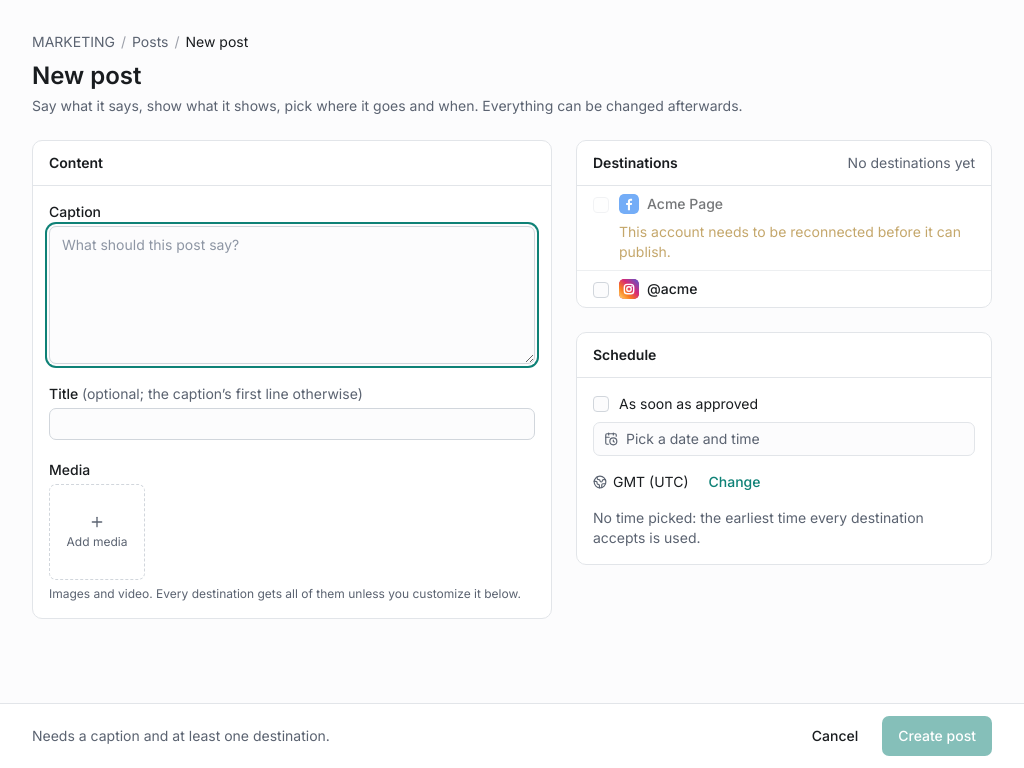
ComposePostPage › starting from a Creative › never overwrites a caption that is already written
Type "My own words" into the text box labelled "Caption".
click(292, 295); type("My own words")  # box [49,226,535,364]
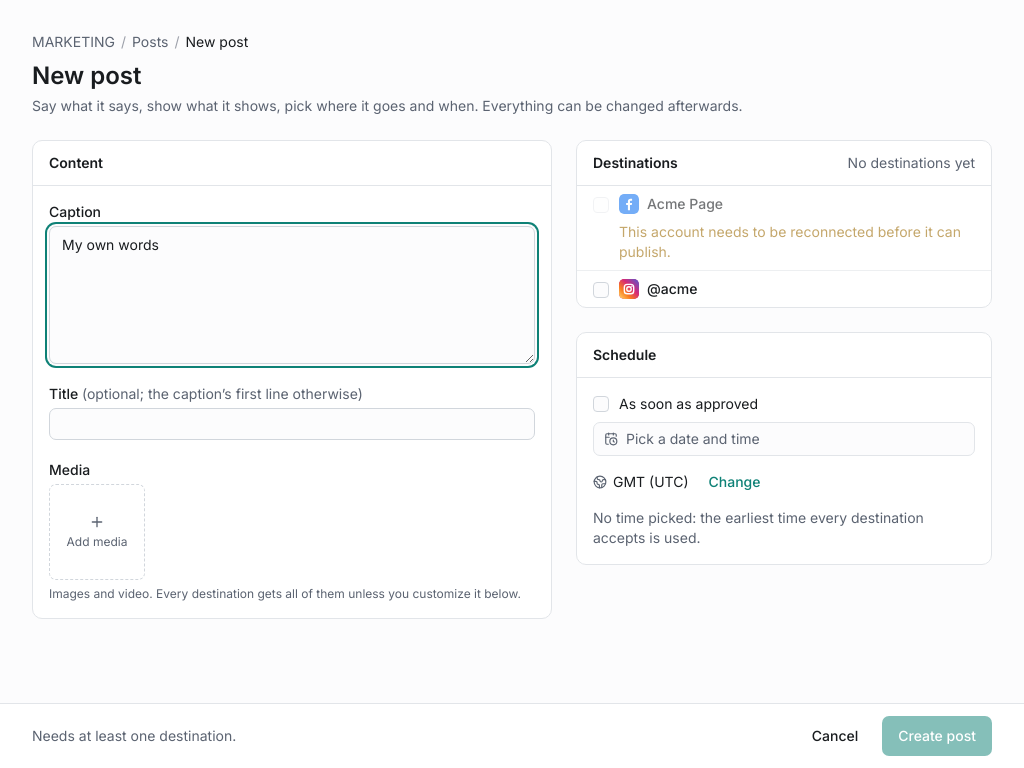
Click the button "Add media".
click(97, 532)  # box [49,484,145,580]
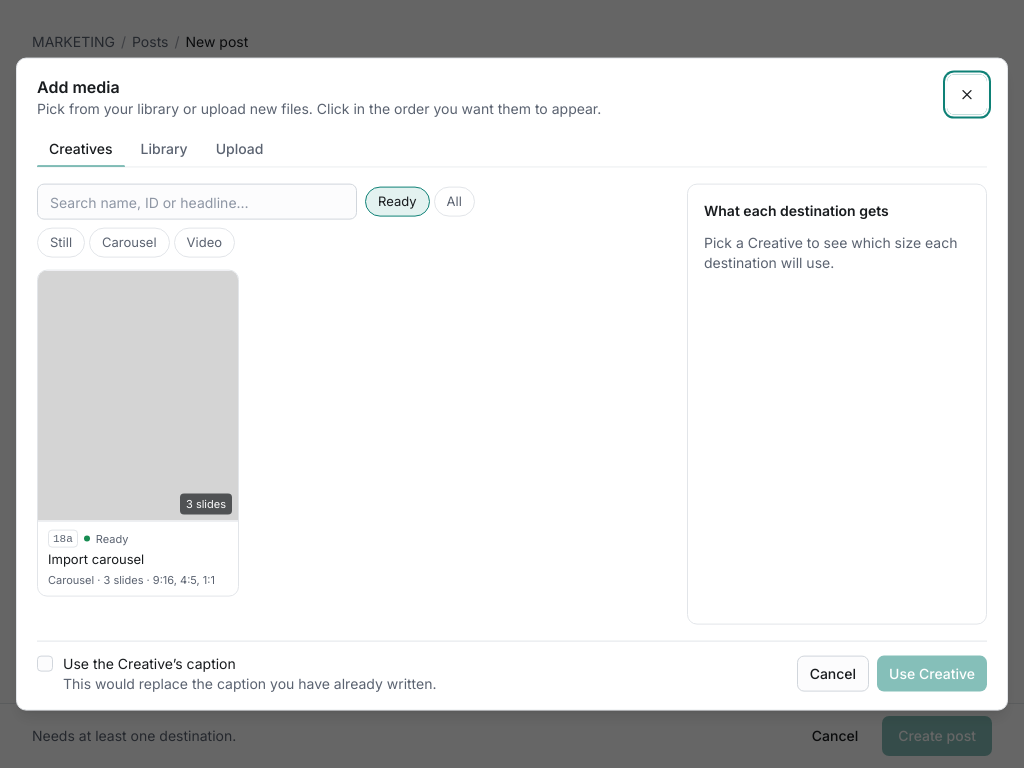
Click the button with aria-label "Choose Creative 18a".
click(138, 433)  # box [37,269,239,597]
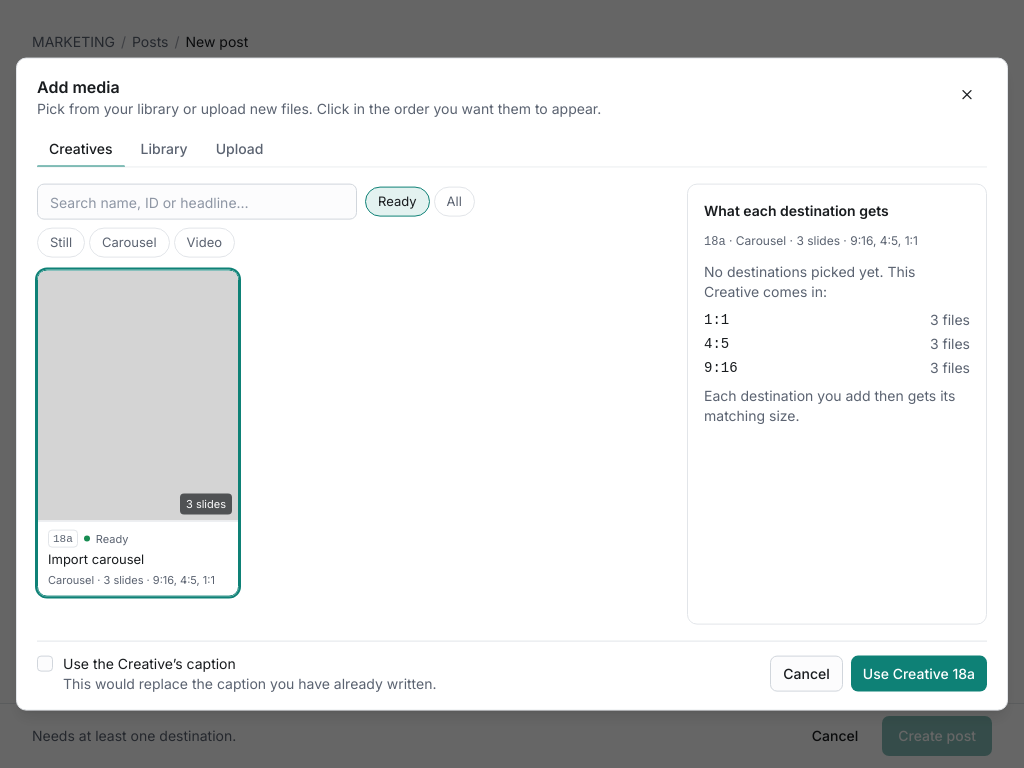
Check: the checkbox labelled "Use the Creative’s caption" is not checked, box [37,655,53,671]
Click the button "Use Creative 18a".
click(919, 673)  # box [851,655,987,691]
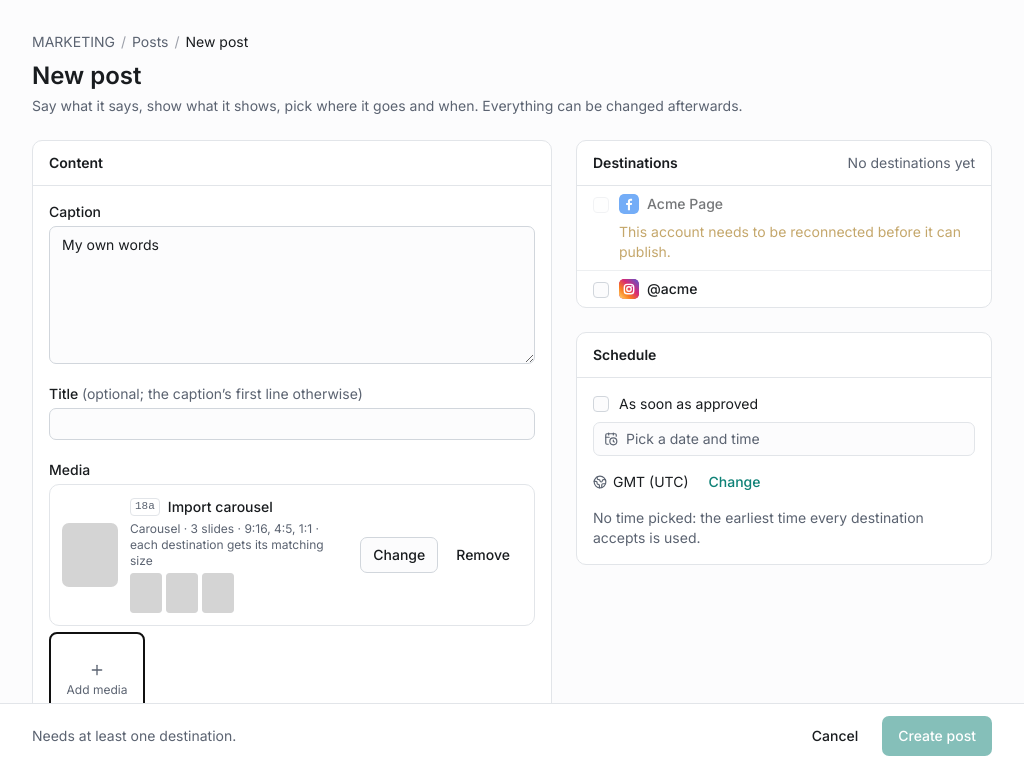
Check: the element with test id "compose-creative-card" is shown, box [49,484,535,626]
